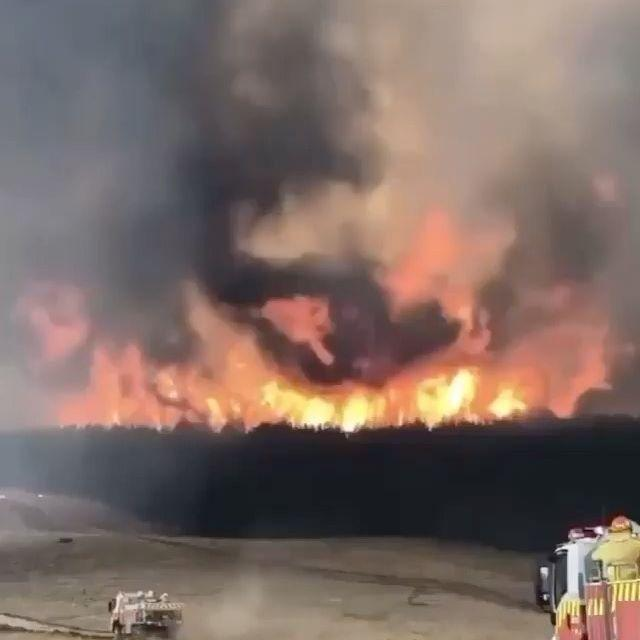Fire: (207, 333, 558, 446)
Smoke: (0, 0, 459, 323)
